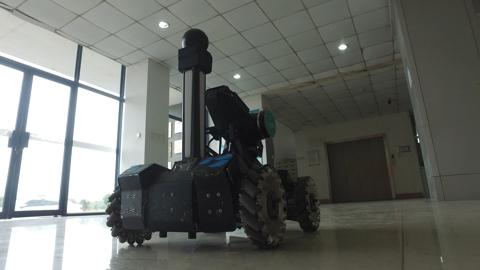chariot: (102, 19, 324, 252)
